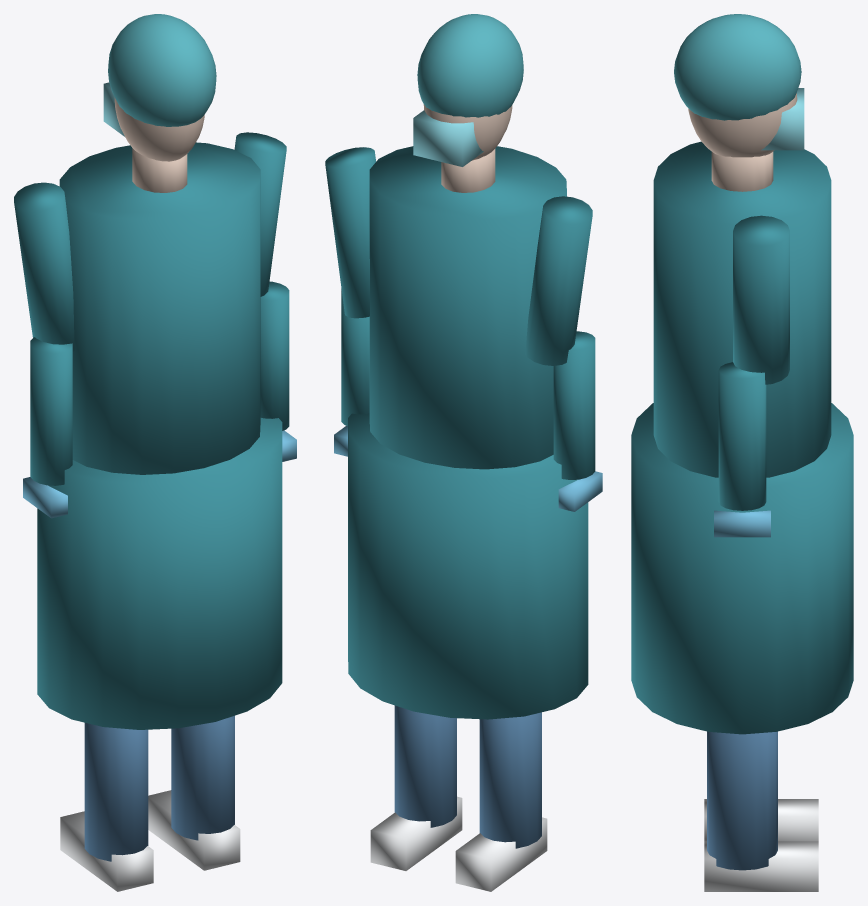
The model's file is Character_Scrub_Nurse.glb.
The picture shows the model from 3 angles, left to right: view 1: azimuth 30°, elevation 25°; view 2: azimuth 150°, elevation 25°; view 3: azimuth 270°, elevation 25°; orthographic projection.
Parts seen in each view (by area): view 1: Character_Scrub_Nurse; view 2: Character_Scrub_Nurse; view 3: Character_Scrub_Nurse.
Part boxes in pixels (left/top/right/bottom): Character_Scrub_Nurse: left=14, top=14, right=296, bottom=891; Character_Scrub_Nurse: left=325, top=14, right=602, bottom=891; Character_Scrub_Nurse: left=631, top=14, right=853, bottom=891.
Bounding box in the file's own units: 0.675 × 2.06 × 0.4914.
